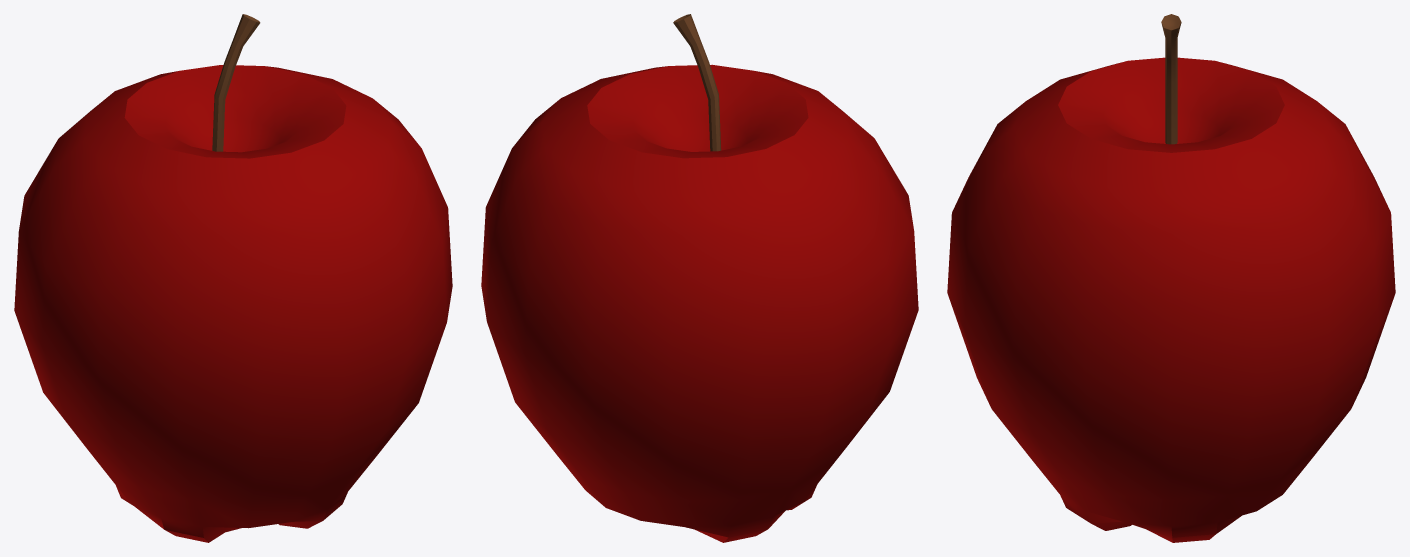
File: Manzana.fbx
3 views of the same model, side by side, from view 1: azimuth 30°, elevation 25°; view 2: azimuth 150°, elevation 25°; view 3: azimuth 270°, elevation 25° (orthographic).
Visible parts, largest first — view 1: Sphere, Cylinder; view 2: Sphere, Cylinder; view 3: Sphere, Cylinder.
Boxes of the visible parts, <box> form: Sphere: <box>14,65,452,542</box>; Cylinder: <box>212,14,260,151</box>; Sphere: <box>481,64,918,542</box>; Cylinder: <box>673,14,721,151</box>; Sphere: <box>947,57,1395,542</box>; Cylinder: <box>1161,14,1181,144</box>.
Size of the model in its own units: 199 by 244 by 199.
